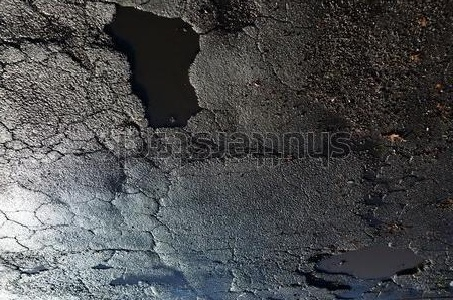pothole: (102, 5, 209, 133), (304, 242, 436, 294), (207, 1, 263, 37), (0, 250, 50, 277)
